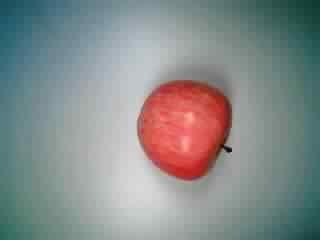apple: (132, 77, 238, 181)
